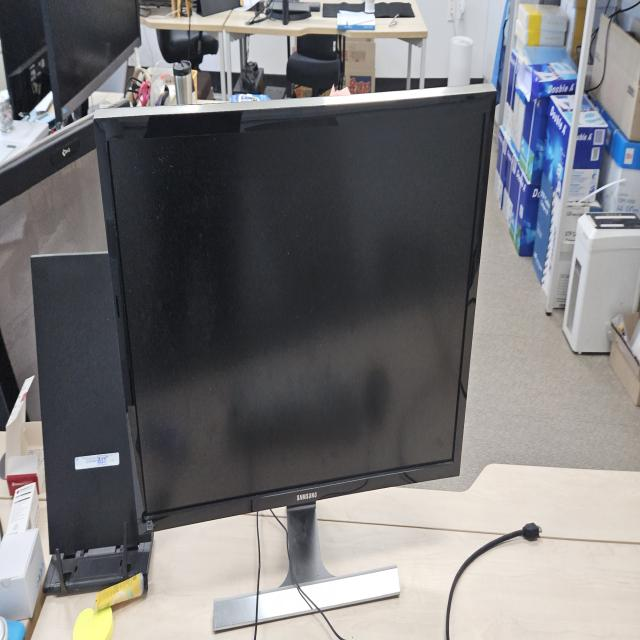Monitor: (91, 77, 498, 626)
